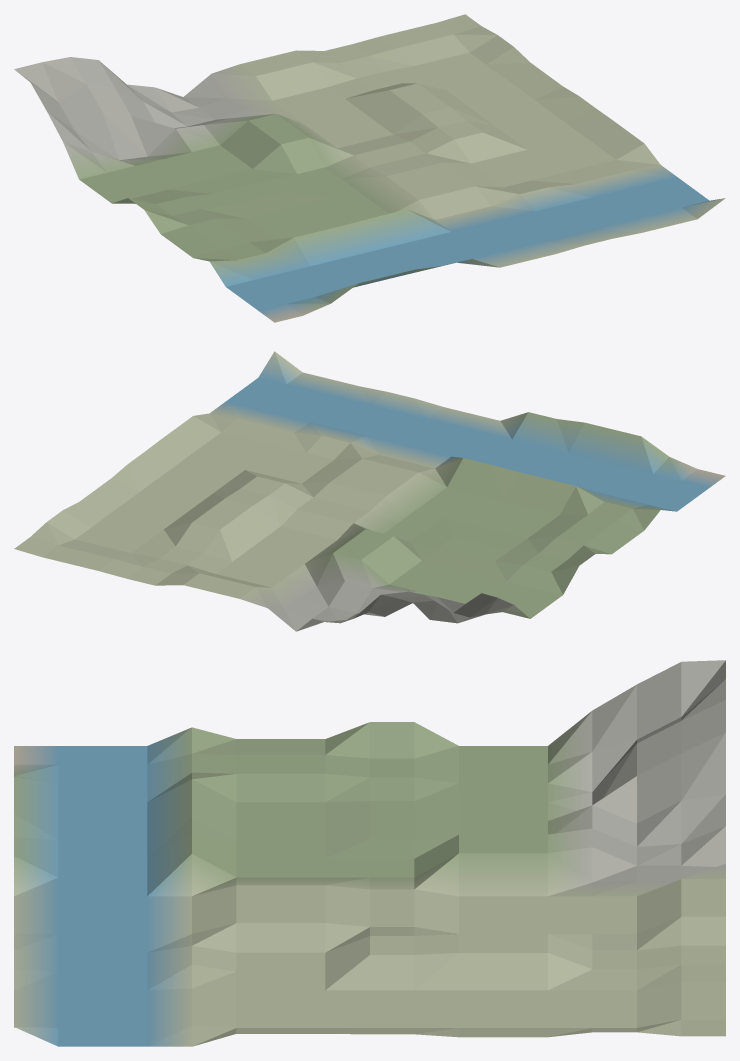
3 renders of one model, top to bottom at view 1: azimuth 30°, elevation 25°; view 2: azimuth 150°, elevation 25°; view 3: azimuth 270°, elevation 25°, orthographic. The views are drawn at different scales.
Size of the model in its own units: 32 by 4.91 by 32.
